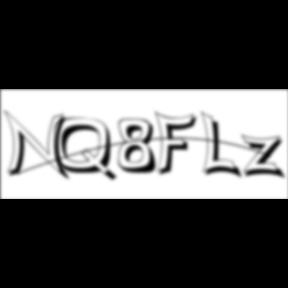8: (118, 117, 163, 176)
F: (155, 110, 203, 178)
L: (201, 110, 245, 182)
N: (4, 109, 74, 183)
Q: (54, 117, 120, 184)
z: (242, 134, 288, 182)
